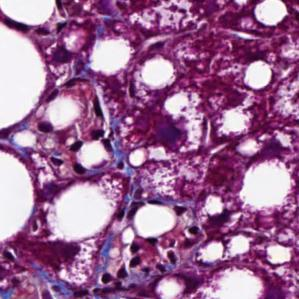inflammation: (92, 241, 189, 285), (153, 112, 189, 161), (92, 94, 115, 154), (46, 37, 79, 70), (68, 137, 88, 179)
